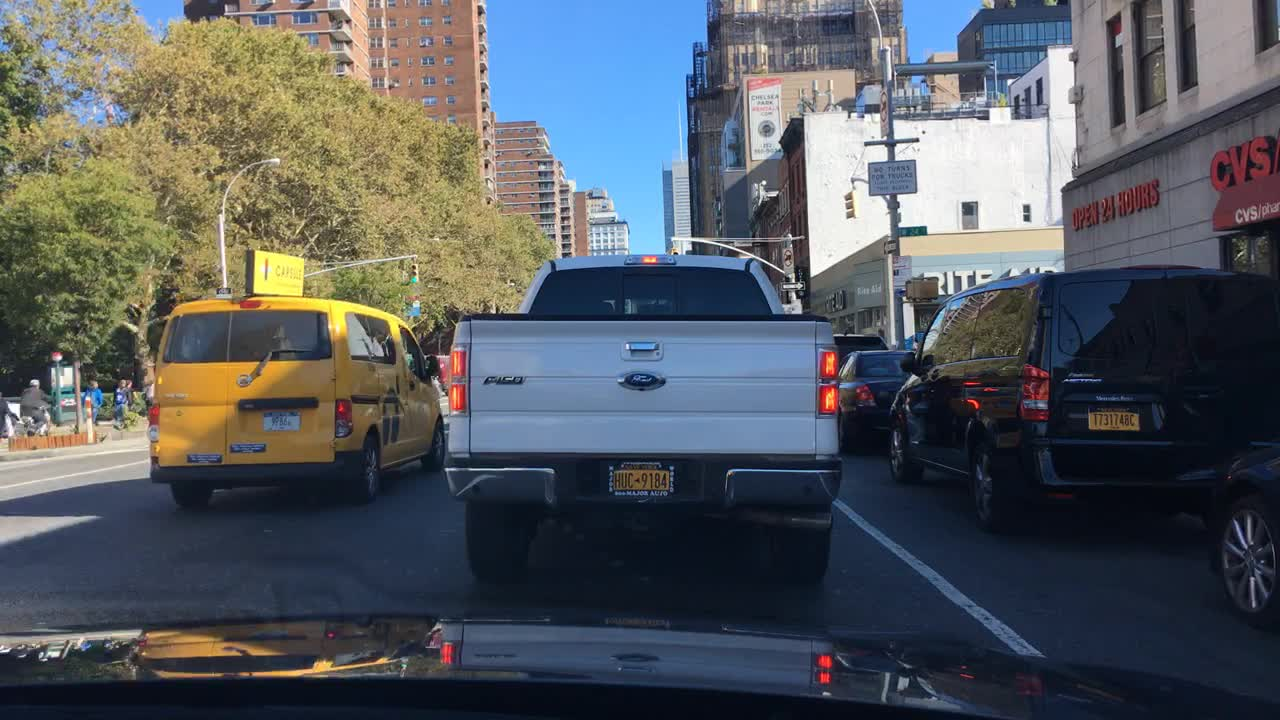car: (440, 252, 843, 582), (884, 262, 1278, 535), (146, 246, 448, 511), (1201, 437, 1278, 632), (834, 349, 916, 454), (832, 332, 888, 367)
motor: (16, 399, 55, 437)
person: (111, 377, 130, 429), (0, 393, 19, 439), (124, 380, 136, 413)
rider: (15, 377, 53, 433)
traffic light: (901, 276, 941, 304), (842, 192, 855, 217), (408, 263, 418, 283)
traffic sign: (866, 157, 918, 198), (879, 85, 890, 138), (779, 246, 796, 276), (896, 225, 931, 239), (853, 89, 865, 120), (405, 293, 419, 315), (881, 238, 900, 254), (779, 280, 806, 291)
